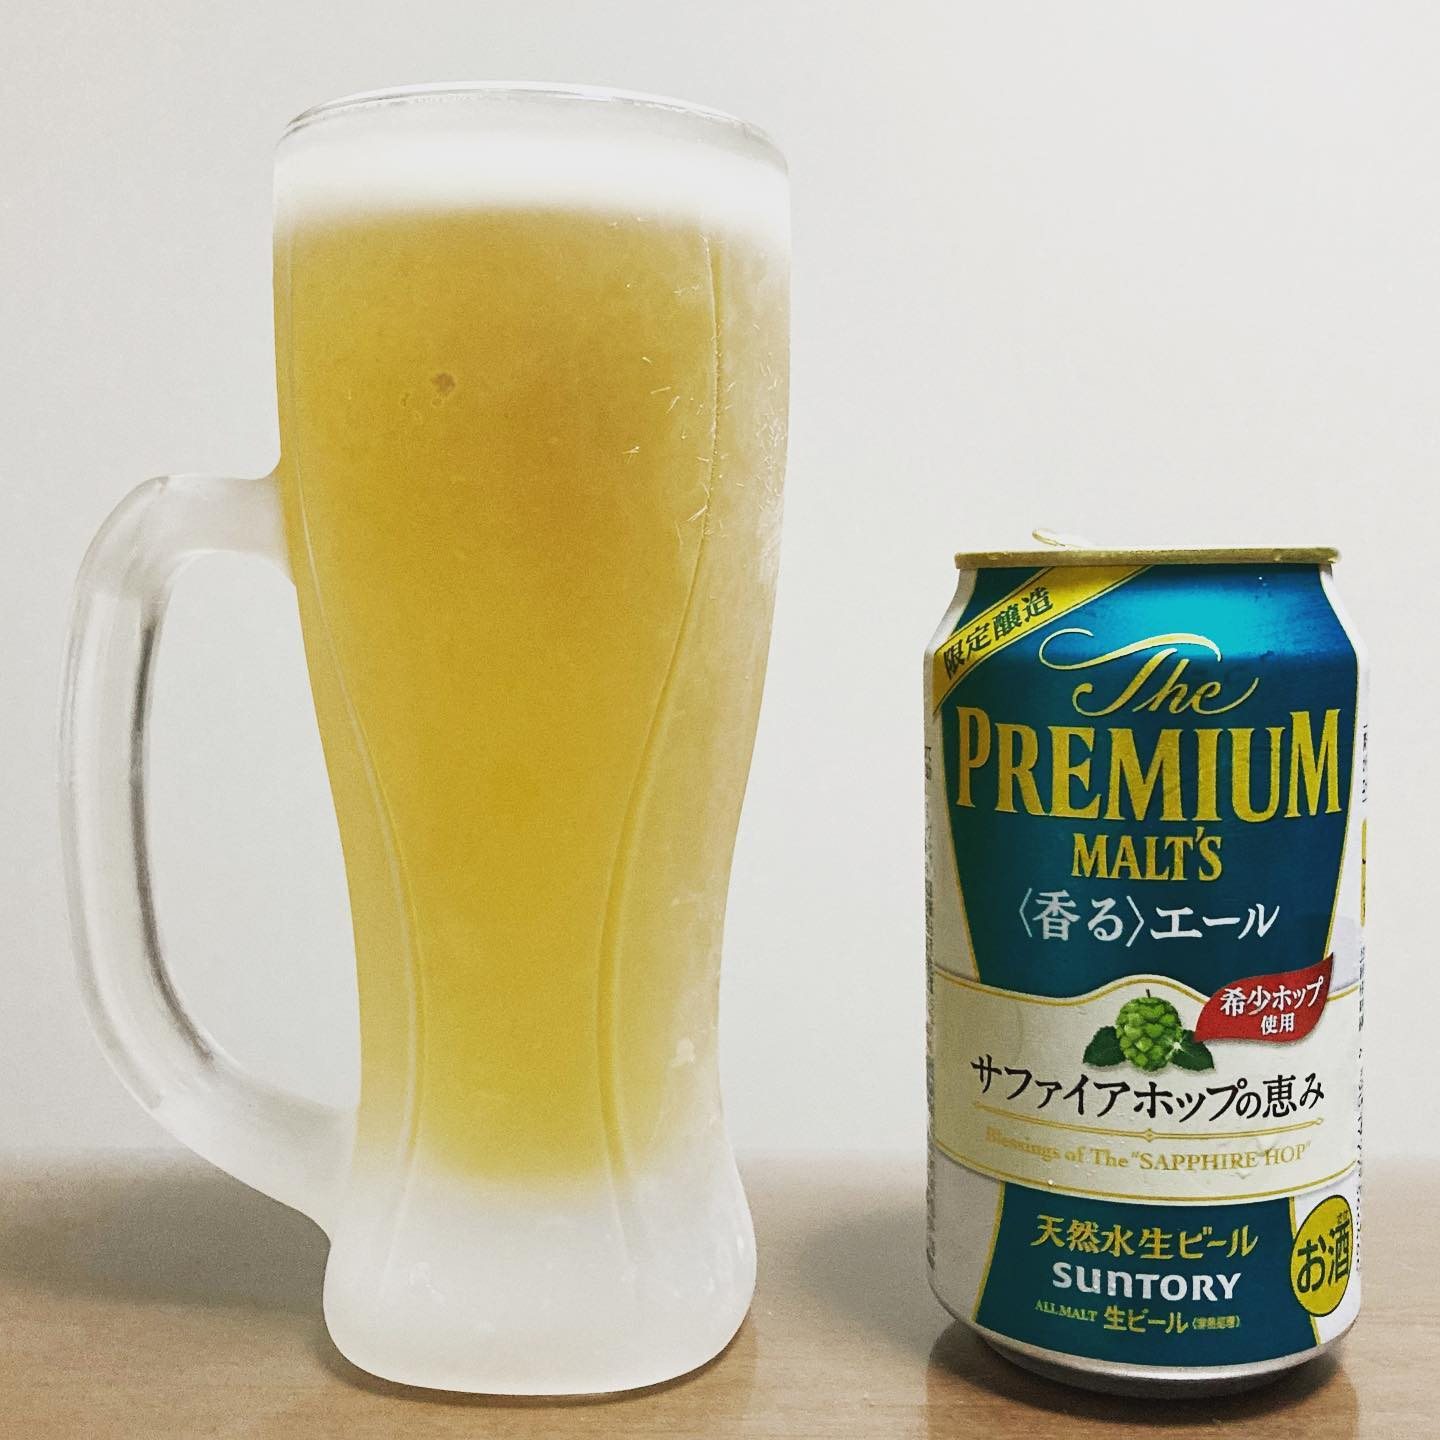alcohol: (260, 70, 800, 1411), (909, 517, 1379, 1410)
